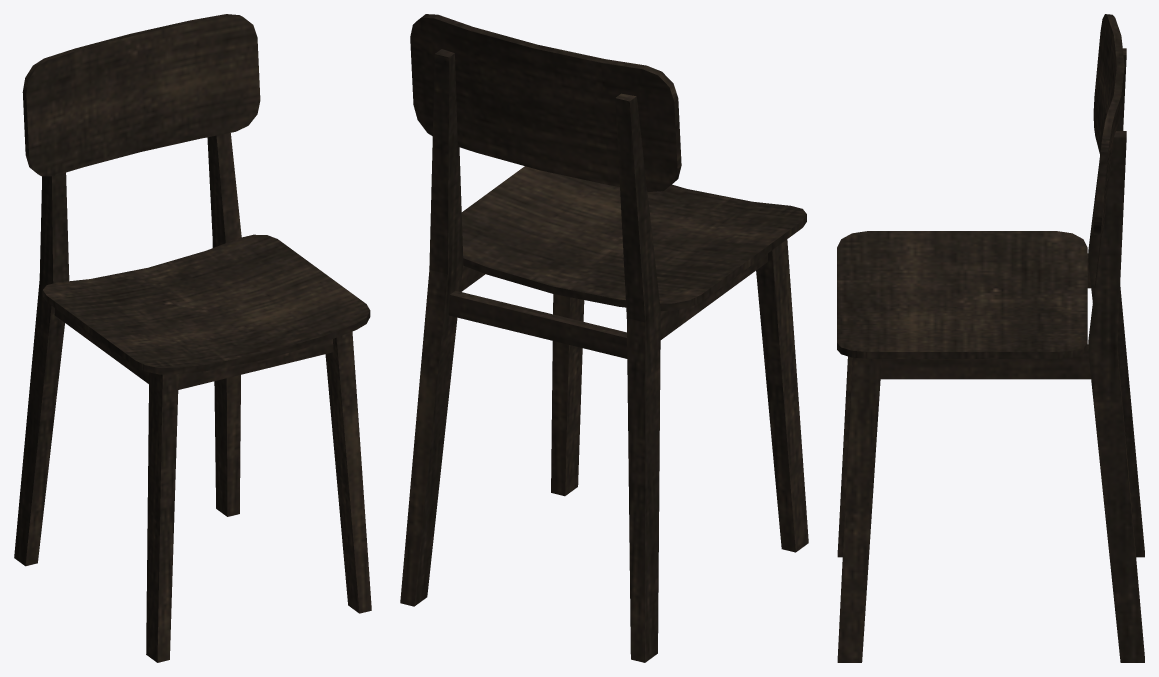
Rendered from chair_mp_3_2.obj.
3 views of the same model, side by side, from view 1: azimuth 30°, elevation 25°; view 2: azimuth 150°, elevation 25°; view 3: azimuth 270°, elevation 25° (orthographic). The views are drawn at different scales.
Parts seen in each view (by area): view 1: chair_mp_3_2; view 2: chair_mp_3_2; view 3: chair_mp_3_2.
Part boxes in pixels (x1,y1,x2,y2): chair_mp_3_2: (14, 14, 371, 662); chair_mp_3_2: (400, 14, 808, 662); chair_mp_3_2: (837, 14, 1144, 662).
Bounding box in the file's own units: 0.4763 × 0.9967 × 0.5126.
